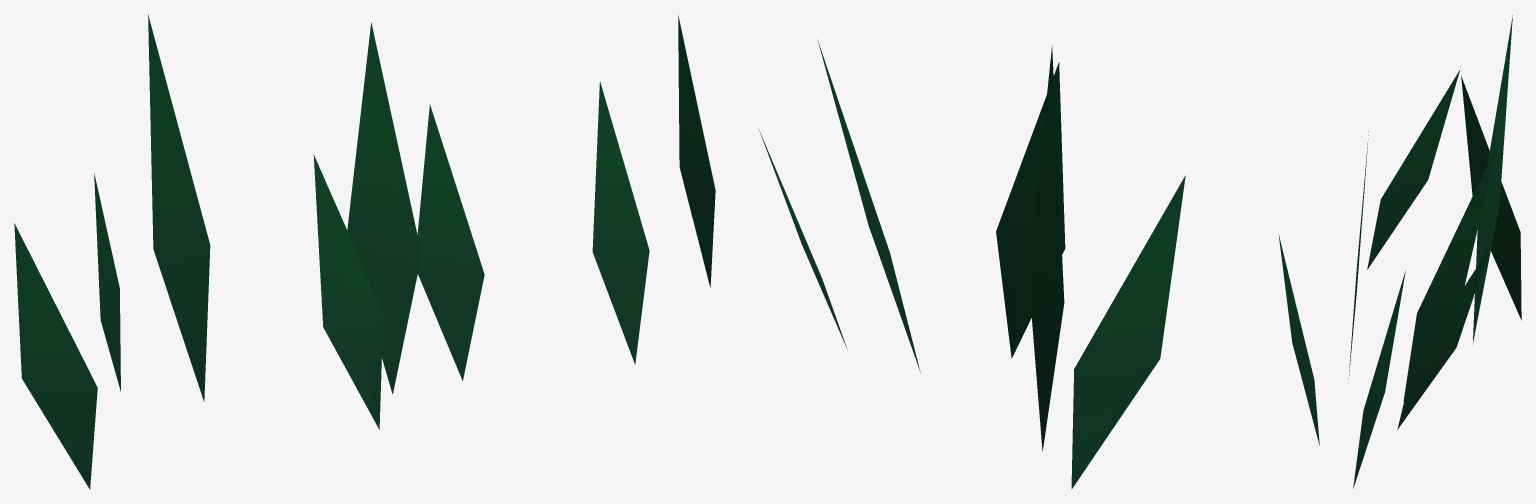
Rendered from plants_me_dlc1_main_grass122.gltf.
3 renders of one model, left to right at view 1: azimuth 30°, elevation 25°; view 2: azimuth 150°, elevation 25°; view 3: azimuth 270°, elevation 25°, orthographic. The views are drawn at different scales.
Visible parts, largest first — view 1: um_plants_me_dlc1_main_grass122_model_plants_me_dlc1_main_gr; view 2: um_plants_me_dlc1_main_grass122_model_plants_me_dlc1_main_gr; view 3: um_plants_me_dlc1_main_grass122_model_plants_me_dlc1_main_gr.
Boxes of the visible parts, x1,y1,x2,y2 form: um_plants_me_dlc1_main_grass122_model_plants_me_dlc1_main_gr: (14, 14, 649, 489); um_plants_me_dlc1_main_grass122_model_plants_me_dlc1_main_gr: (678, 14, 1319, 489); um_plants_me_dlc1_main_grass122_model_plants_me_dlc1_main_gr: (1348, 15, 1521, 488).
Size of the model in its own units: 0.5503 by 0.3383 by 0.1672.
1 material, 1 textured.
